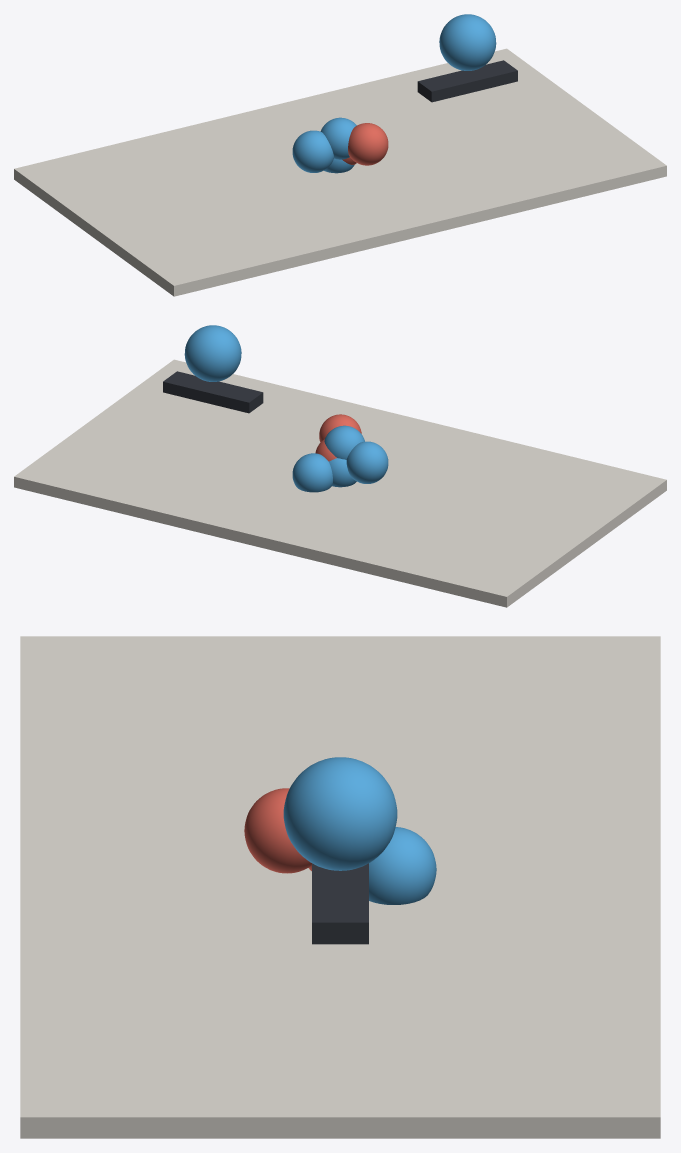
Rendered from chem-atoms-neutron.glb.
3 views of the same model, one above another, from view 1: azimuth 30°, elevation 25°; view 2: azimuth 150°, elevation 25°; view 3: azimuth 270°, elevation 25° (orthographic). The views are drawn at different scales.
Parts seen in each view (by area): view 1: concept-base, highlighted-neutral-neutron, no-charge-marker, proton-2, neutron-2, neutron-1; view 2: concept-base, highlighted-neutral-neutron, no-charge-marker, neutron-2, neutron-4, neutron-1, neutron-3, proton-2; view 3: concept-base, highlighted-neutral-neutron, no-charge-marker, neutron-4, proton-2.
Boxes of the visible parts, left/top/right/bottom form: concept-base: left=14, top=48, right=666, bottom=296; highlighted-neutral-neutron: left=439, top=14, right=496, bottom=70; no-charge-marker: left=417, top=60, right=517, bottom=102; proton-2: left=348, top=123, right=388, bottom=165; neutron-2: left=292, top=130, right=333, bottom=172; neutron-1: left=320, top=117, right=356, bottom=159; concept-base: left=14, top=359, right=666, bottom=607; highlighted-neutral-neutron: left=184, top=325, right=241, bottom=381; no-charge-marker: left=163, top=371, right=263, bottom=413; neutron-2: left=346, top=441, right=388, bottom=483; neutron-4: left=292, top=453, right=332, bottom=492; neutron-1: left=324, top=425, right=364, bottom=459; neutron-3: left=329, top=458, right=356, bottom=487; proton-2: left=319, top=414, right=361, bottom=442; concept-base: left=20, top=636, right=660, bottom=1138; highlighted-neutral-neutron: left=283, top=757, right=397, bottom=870; no-charge-marker: left=312, top=863, right=368, bottom=944; neutron-4: left=369, top=827, right=436, bottom=904; proton-2: left=244, top=788, right=311, bottom=873.
Size of what is drawn, in the model's own units: 2.4 by 0.605 by 1.35.
